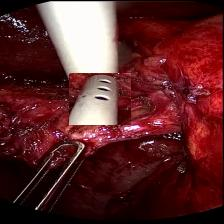Grasper: (14, 136, 94, 208)
Irrigator: (70, 72, 132, 124)
